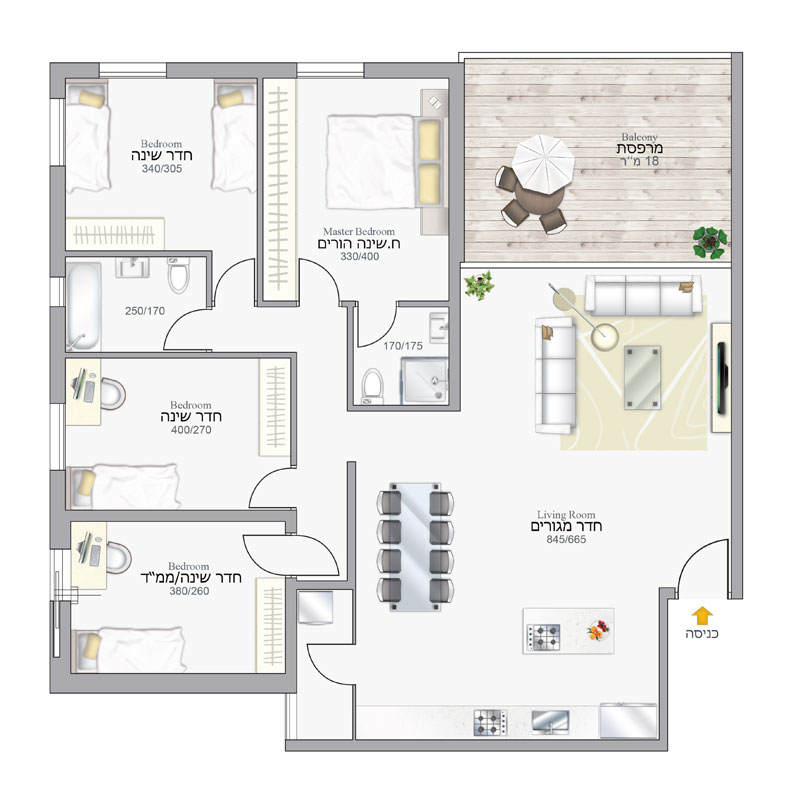door: (675, 537, 730, 587), (303, 639, 358, 689), (294, 252, 343, 296), (353, 307, 402, 351), (246, 531, 288, 580), (299, 531, 341, 580), (246, 460, 288, 509), (159, 304, 201, 353), (215, 253, 257, 302)
room: (257, 61, 462, 307), (49, 509, 298, 693), (50, 352, 297, 522), (49, 64, 264, 257)
wall: (286, 738, 668, 752), (51, 673, 297, 692), (49, 510, 294, 522), (450, 63, 464, 261)
window: (50, 403, 67, 471), (99, 62, 166, 79), (298, 63, 365, 80), (49, 99, 63, 166), (52, 549, 69, 601), (50, 277, 67, 307)
